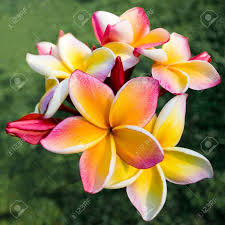frangipani: (41, 71, 165, 195)
